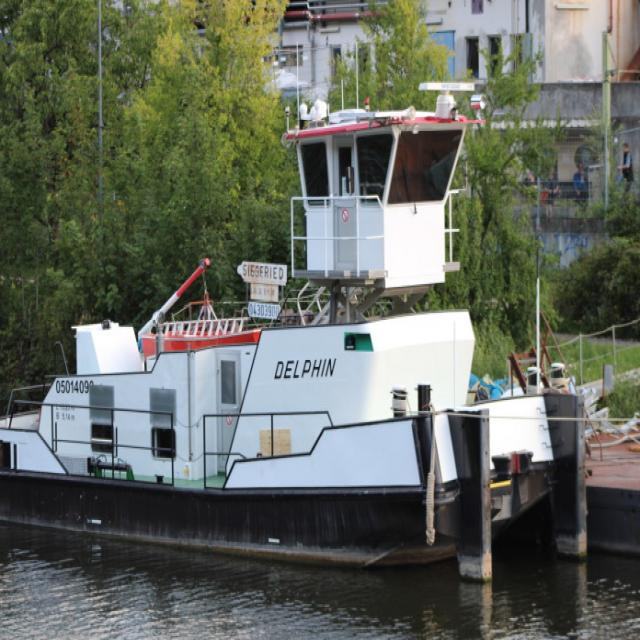tugboat: (1, 76, 594, 594)
